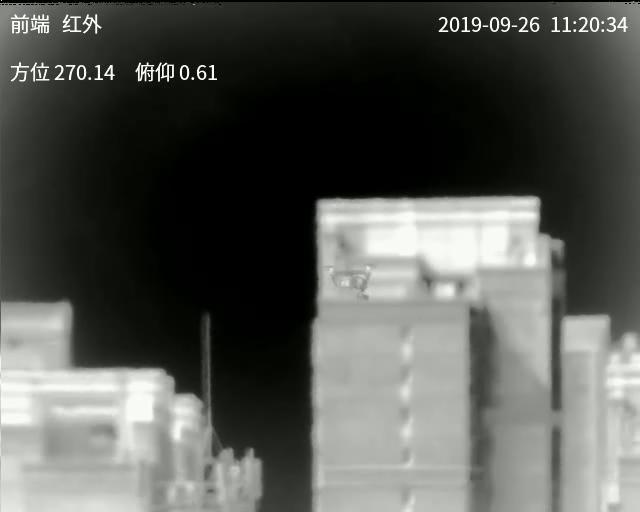uav: (322, 261, 381, 302)
